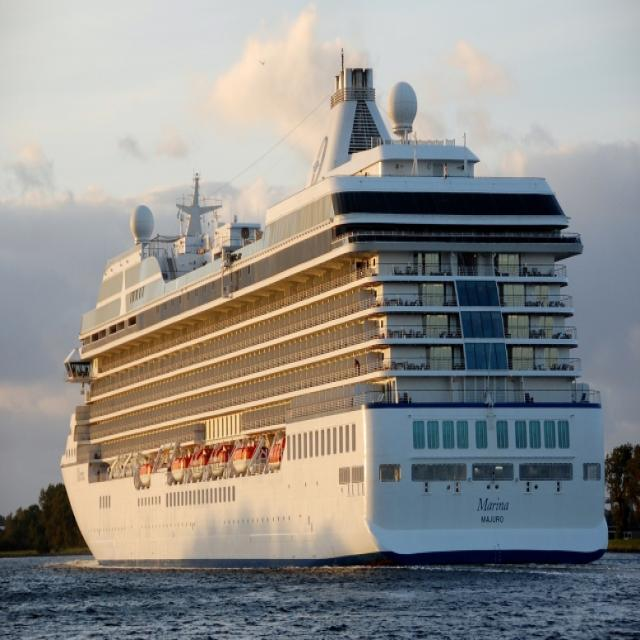cruises: (59, 58, 615, 574)
